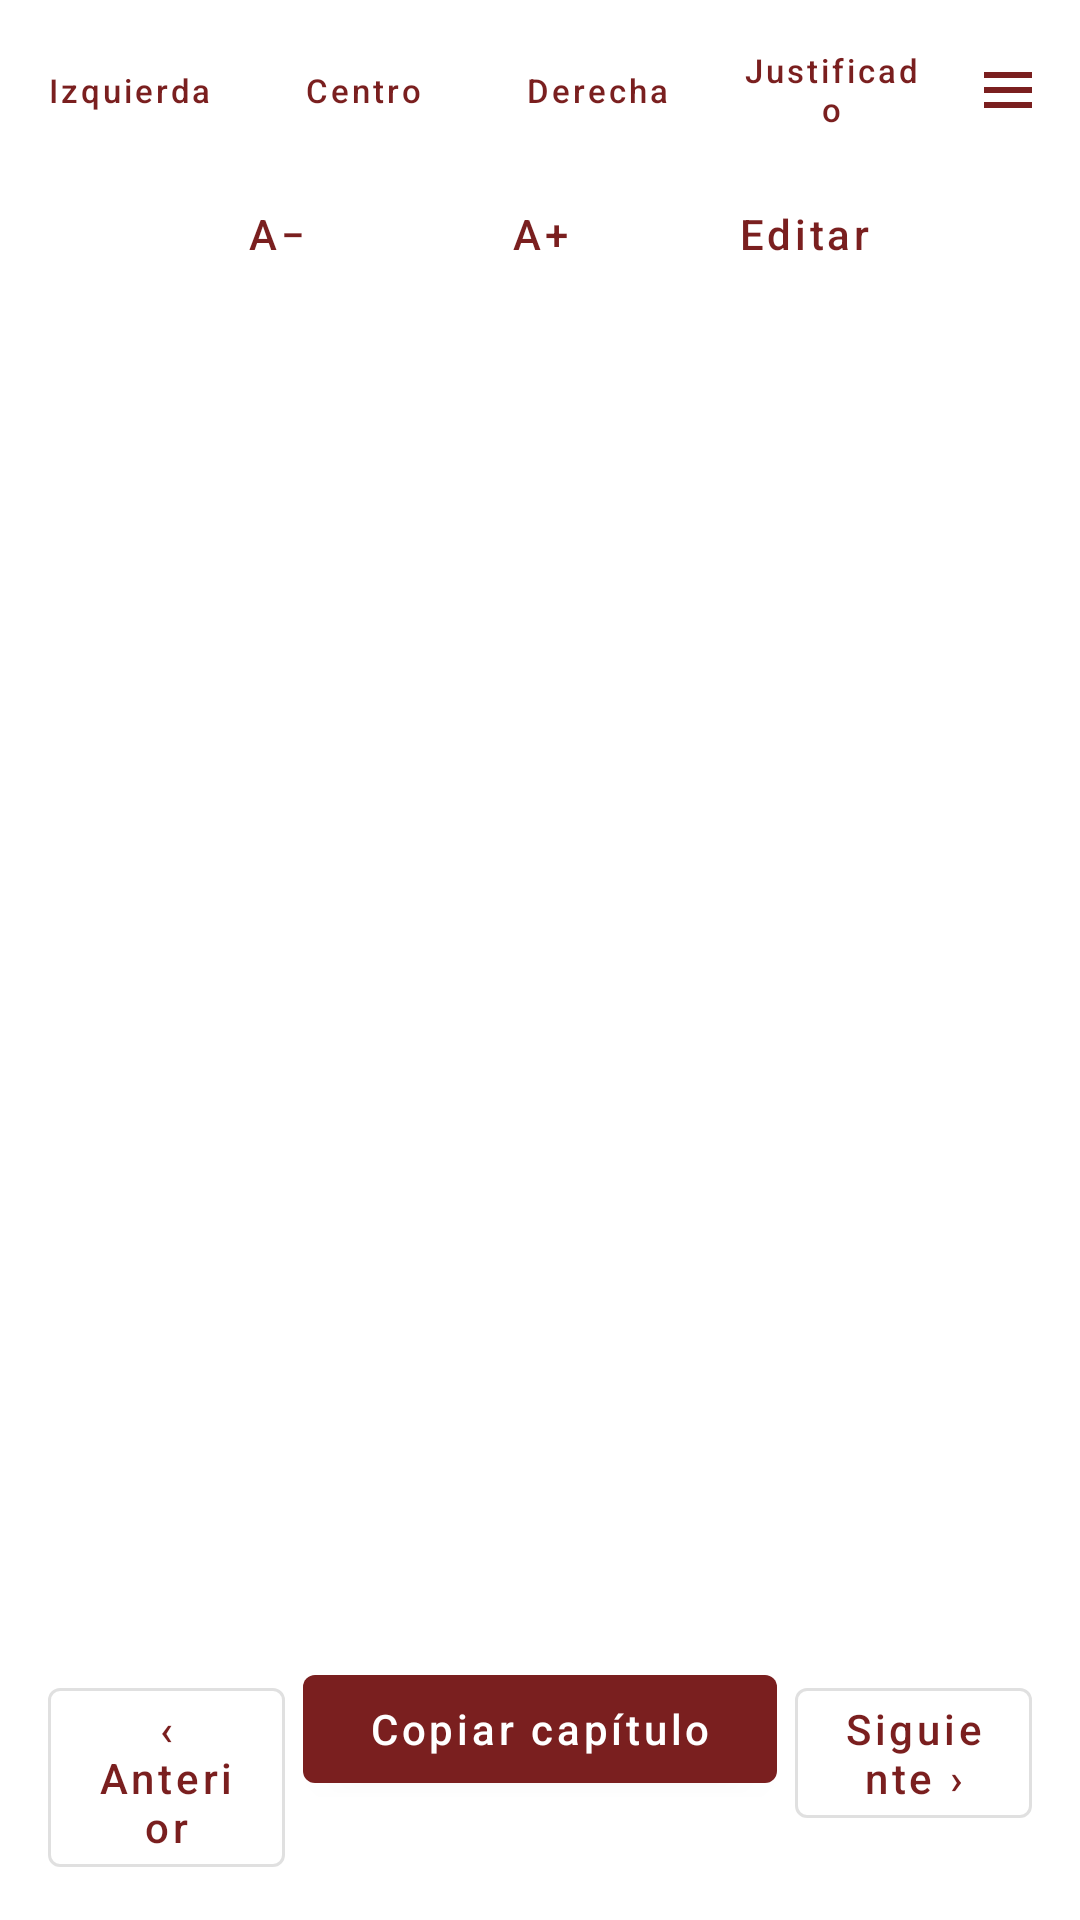

Named icons in this screenshot (1080x1920) and their bounding boxes, (x1, y1, x2, y2):
Índice: (984, 72, 1032, 108)
